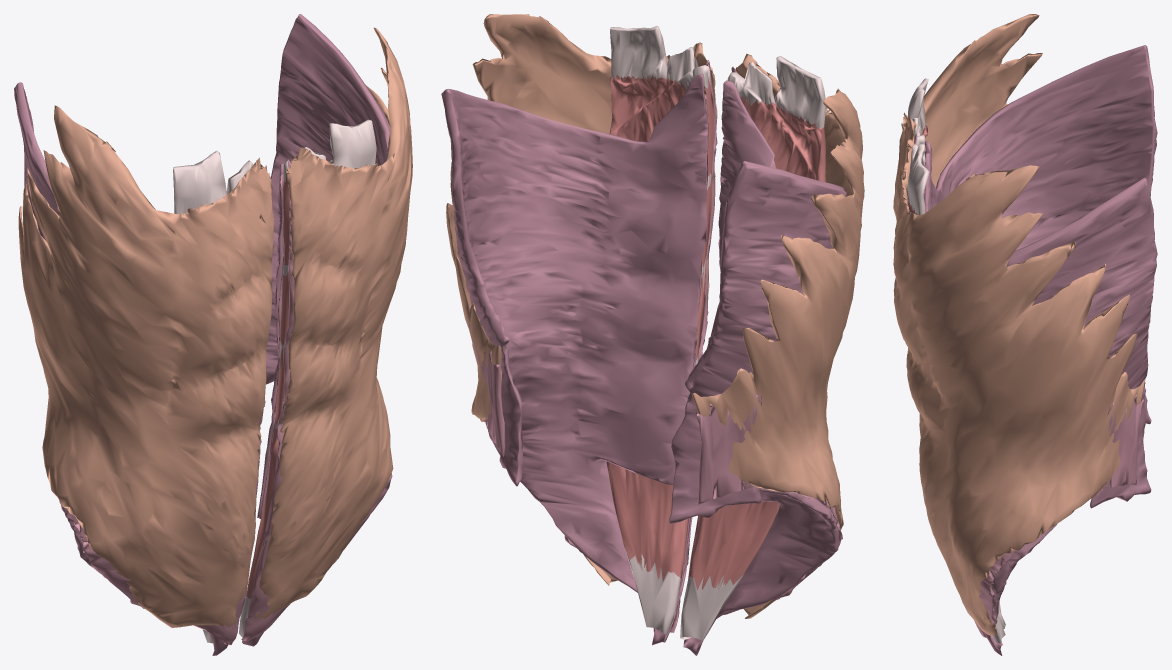
The model's file is meshopt-25.glb.
The picture shows the model from 3 angles, left to right: view 1: azimuth 30°, elevation 25°; view 2: azimuth 150°, elevation 25°; view 3: azimuth 270°, elevation 25°; orthographic projection. The views are drawn at different scales.
Visible parts, largest first — view 1: external_r, external_l, transversus_l, rectus_l, internal_l, rectus_r, transversus_r, internal_r; view 2: transversus_l, transversus_r, external_r, rectus_l, rectus_r, external_l, internal_r, internal_l; view 3: external_l, transversus_r, transversus_l, external_r, internal_l, rectus_l, rectus_r.
Part boxes in pixels (left/top/right/bottom): external_r: left=18, top=105, right=274, bottom=627; external_l: left=254, top=27, right=412, bottom=618; transversus_l: left=242, top=14, right=390, bottom=646; rectus_l: left=239, top=119, right=376, bottom=637; internal_l: left=241, top=158, right=392, bottom=641; rectus_r: left=173, top=151, right=252, bottom=643; transversus_r: left=14, top=82, right=227, bottom=655; internal_r: left=71, top=165, right=274, bottom=644; transversus_l: left=441, top=74, right=707, bottom=645; transversus_r: left=669, top=80, right=846, bottom=655; external_r: left=691, top=53, right=864, bottom=618; rectus_l: left=606, top=26, right=713, bottom=635; rectus_r: left=680, top=56, right=825, bottom=640; external_l: left=446, top=14, right=717, bottom=585; internal_r: left=696, top=67, right=842, bottom=618; internal_l: left=469, top=60, right=717, bottom=632; external_l: left=893, top=137, right=1145, bottom=635; transversus_r: left=925, top=45, right=1157, bottom=424; transversus_l: left=924, top=153, right=1157, bottom=655; external_r: left=893, top=14, right=1042, bottom=436; internal_l: left=923, top=165, right=1143, bottom=637; rectus_l: left=906, top=144, right=1005, bottom=643; rectus_r: left=907, top=78, right=1005, bottom=628.
Bounding box in the file's own units: 0.282 × 0.4384 × 0.1886.
